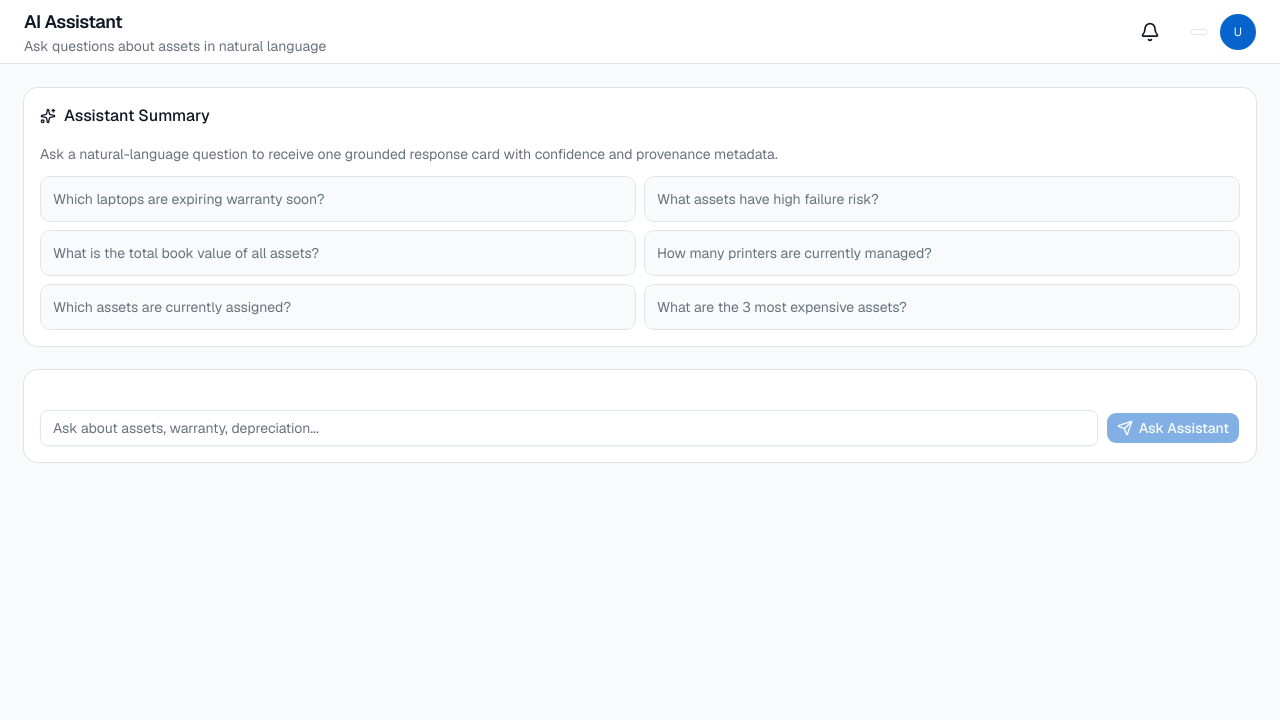
Test: AssistantPage › renders a single response card with governance metadata after submit
The image size is (1280, 720).
In the field with placeholder "Ask about assets, warranty, depreciation...": [569, 428] box [40, 410, 1098, 446], type "Which laptops are expiring warranty soon?"
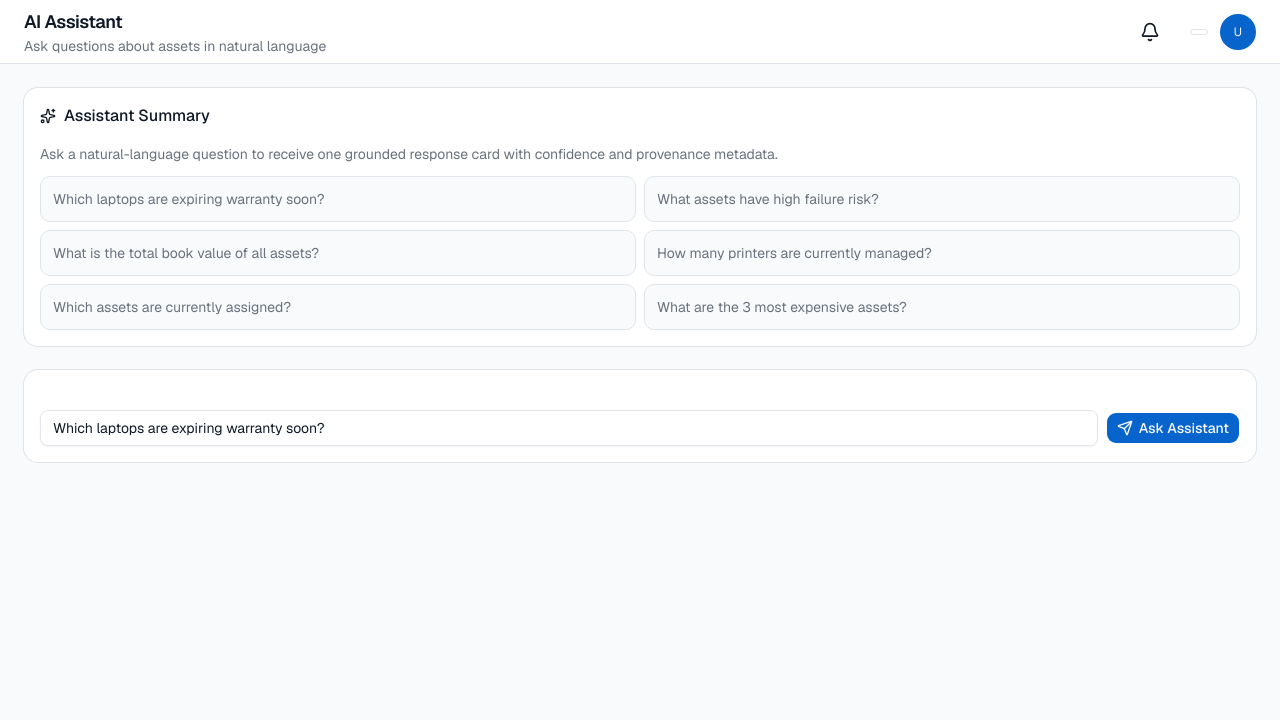
Click the button named "send": [1173, 428] box [1106, 412, 1240, 444]
(page scrolled)
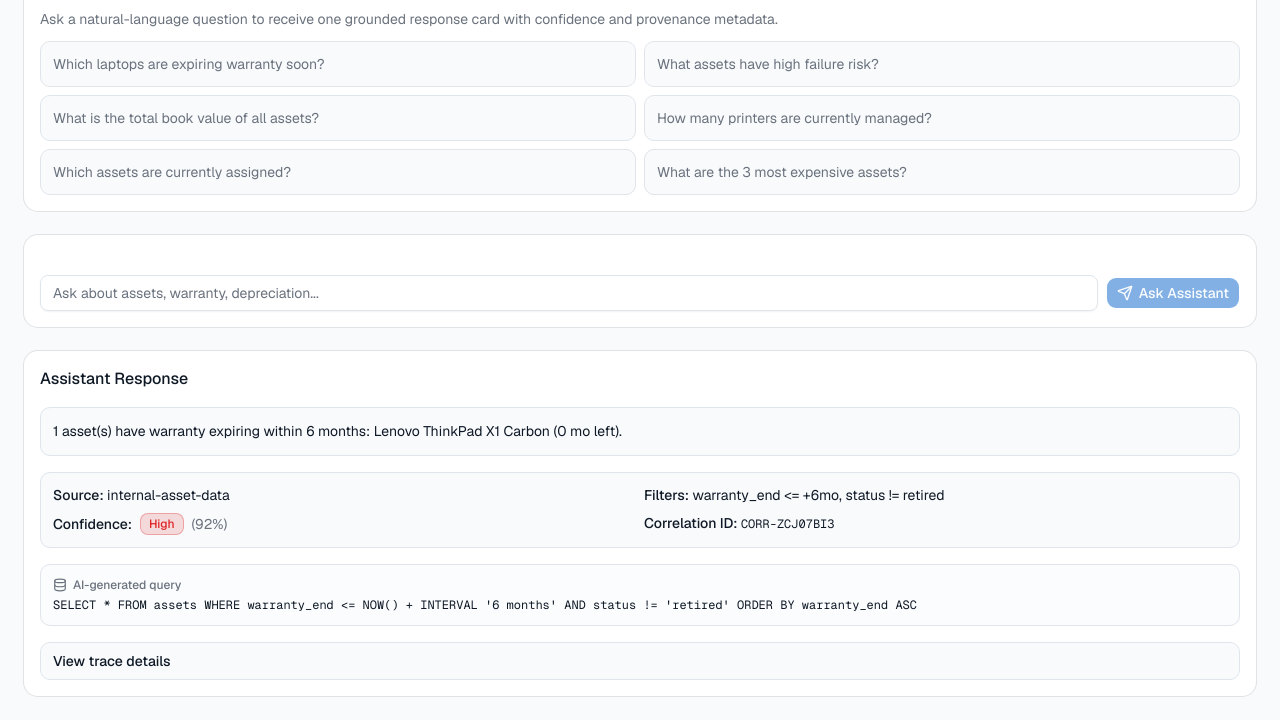
Now the text "Confidence:" is shown, box [53, 514, 132, 534]
Now the text "Correlation ID:" is shown, box [644, 514, 737, 532]
Now the button "View trace details" is shown, box [41, 643, 1239, 679]
